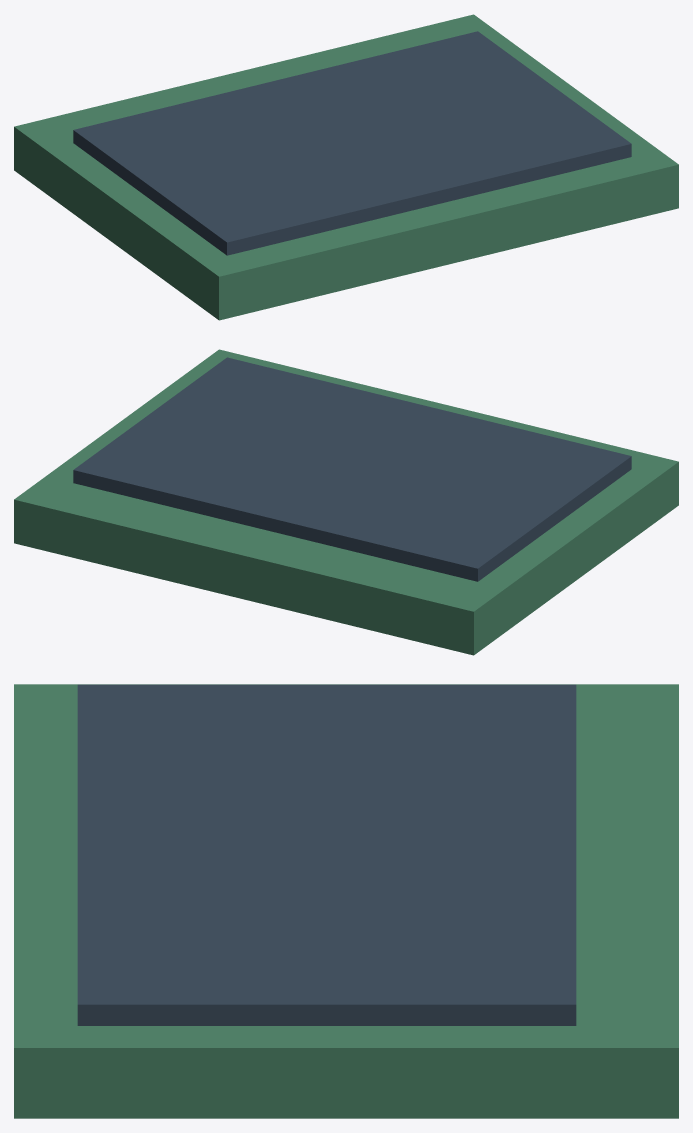
The picture shows the model from 3 angles, top to bottom: view 1: azimuth 30°, elevation 25°; view 2: azimuth 150°, elevation 25°; view 3: azimuth 270°, elevation 25°; orthographic projection. The views are drawn at different scales.
Parts seen in each view (by area): view 1: st7789-154-display, st7789-154-pcb; view 2: st7789-154-display, st7789-154-pcb; view 3: st7789-154-display, st7789-154-pcb.
Part boxes in pixels (x1=…): st7789-154-display: x1=73, y1=31, x2=631, y2=255; st7789-154-pcb: x1=14, y1=14, x2=678, y2=320; st7789-154-display: x1=73, y1=357, x2=631, y2=581; st7789-154-pcb: x1=14, y1=349, x2=678, y2=655; st7789-154-display: x1=77, y1=684, x2=576, y2=1025; st7789-154-pcb: x1=14, y1=684, x2=678, y2=1118.
Bounding box in the file's own units: 0.044 × 0.0052 × 0.034.
